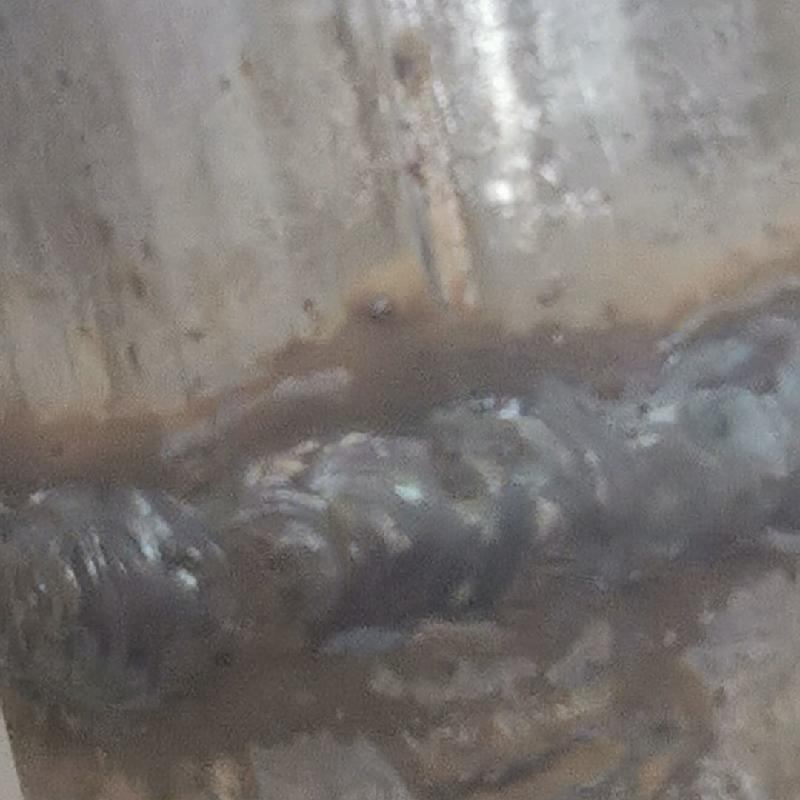good: (3, 348, 799, 705)
